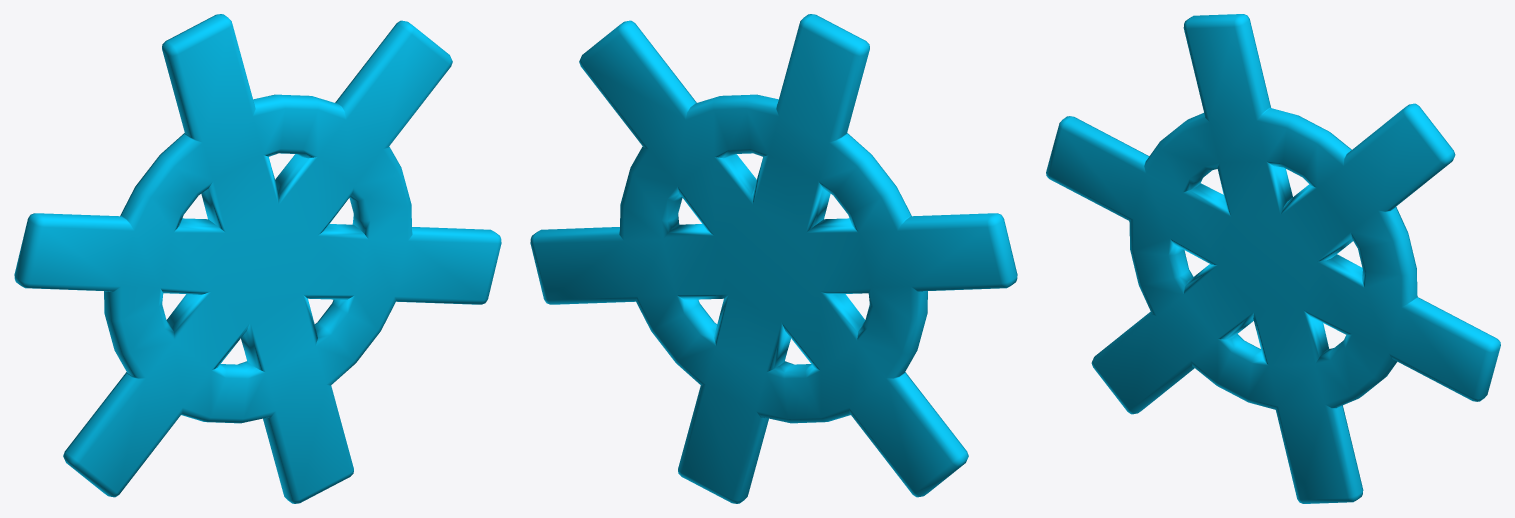
The model's file is Rotating_Tab_Outline.FBX.
3 views of the same model, side by side, from view 1: azimuth 30°, elevation 25°; view 2: azimuth 150°, elevation 25°; view 3: azimuth 330°, elevation 25° (orthographic). The views are drawn at different scales.
Parts seen in each view (by area): view 1: Cylinder003; view 2: Cylinder003; view 3: Cylinder003.
Part boxes in pixels (x1,y1,x2,y2): Cylinder003: (14,14,501,503); Cylinder003: (530,14,1017,503); Cylinder003: (1046,14,1500,503).
Bounding box in the file's own units: 113 × 113 × 5.31.
